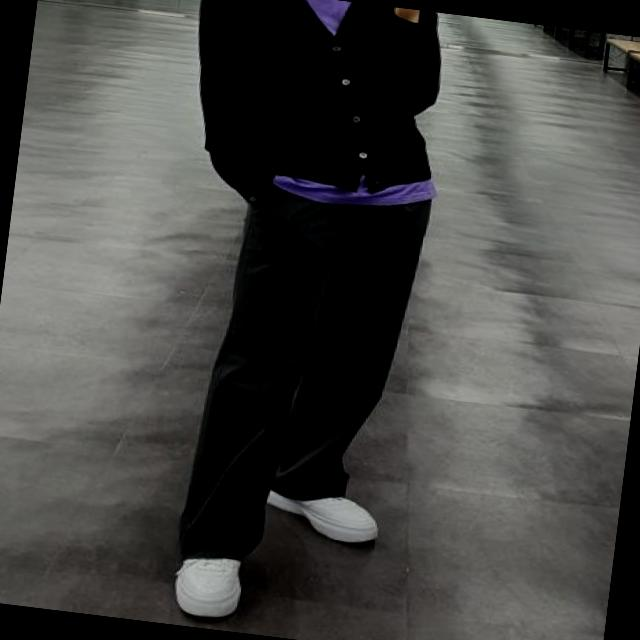cardigan: (175, 0, 450, 220)
slacks: (178, 154, 433, 584)
